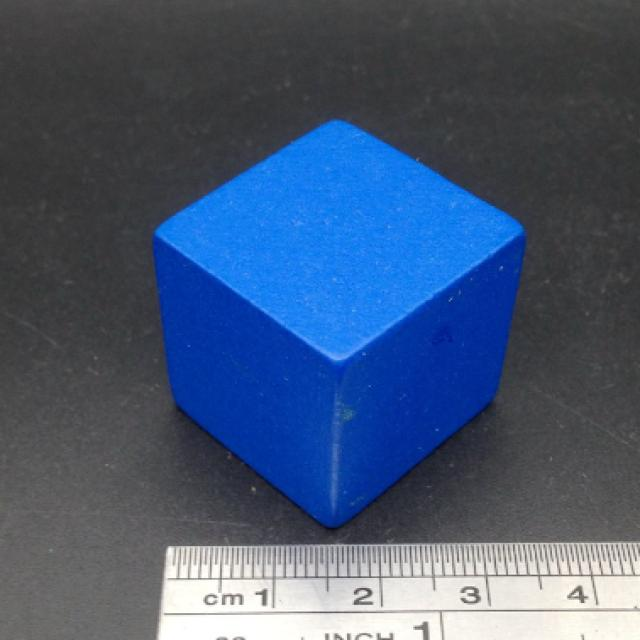bluecube: (152, 122, 527, 531)
